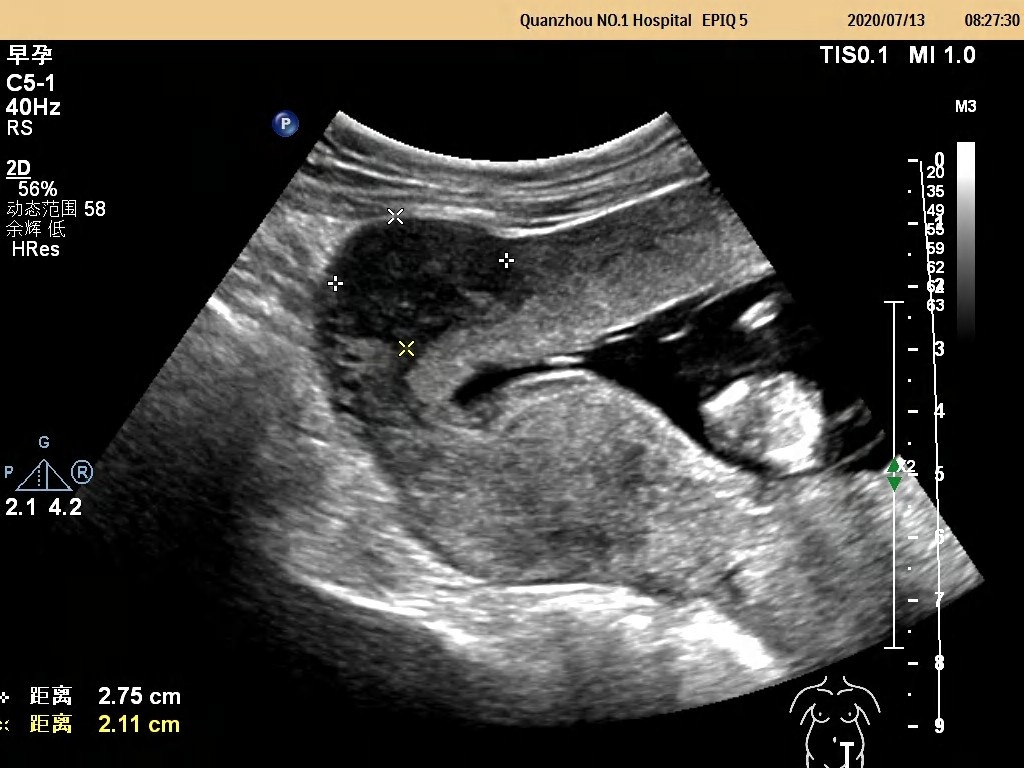肌瘤: (336, 226, 513, 333)
